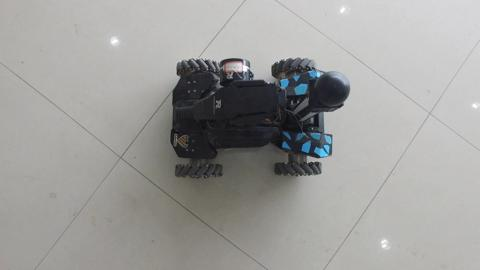chariot: (165, 41, 335, 182)
